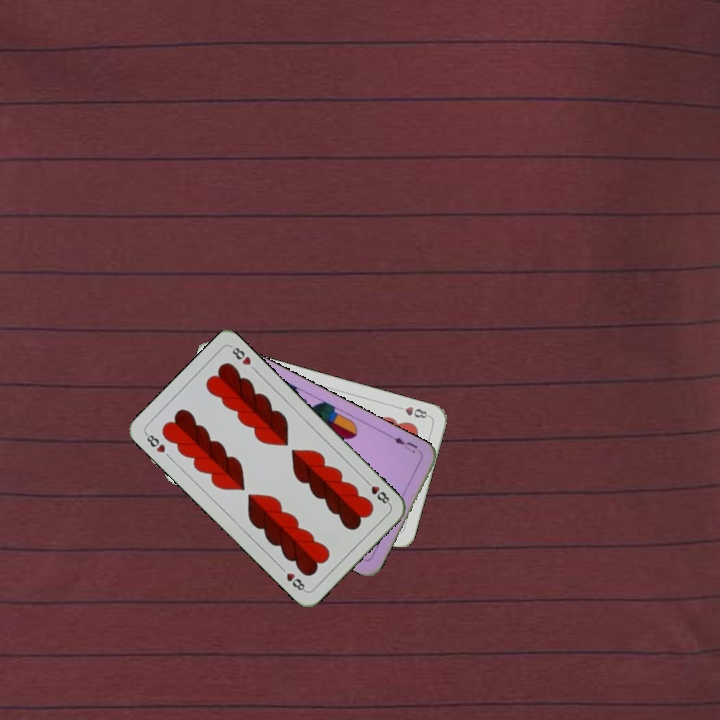EU: (386, 431, 420, 456)
H8: (361, 475, 393, 508), (392, 402, 432, 421), (141, 429, 168, 455)
